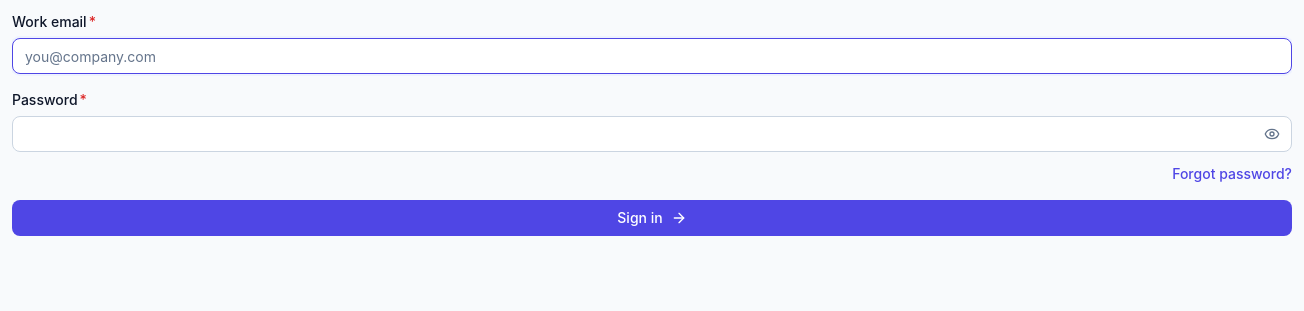
Test: SignInForm › shows a safe message for invalid credentials and clears the password
Type "ada@example.com" into the field labelled "Work email*". click: (652, 56)
box: 12,38 -> 1292,74
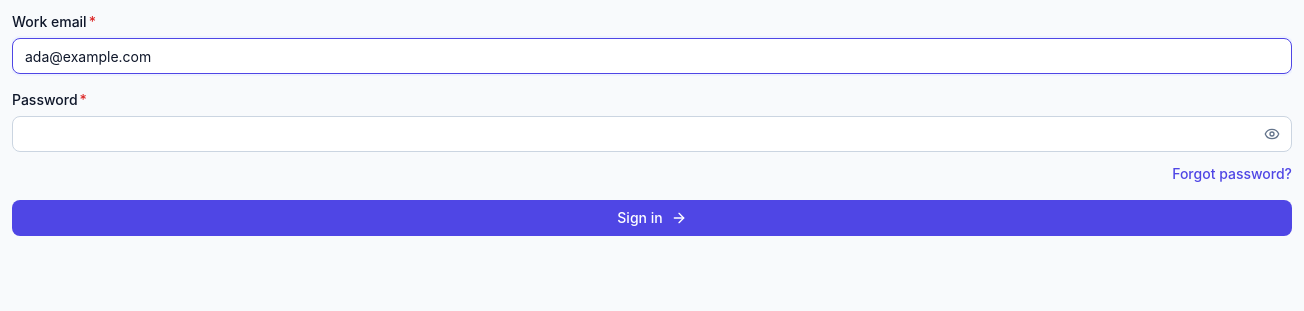
Type "secret-password" into the password field labelled "Password*". click: (652, 134)
box: 12,116 -> 1292,152
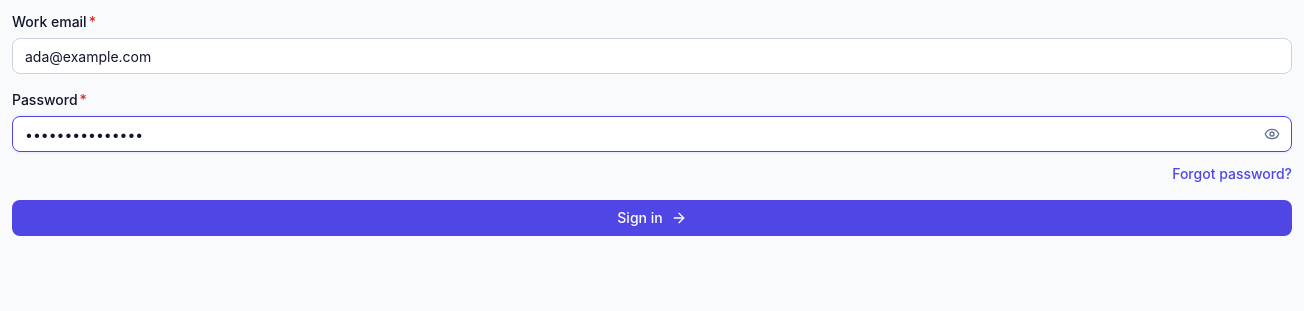
Click the button "Sign in". click: (652, 218)
box: 12,200 -> 1292,236
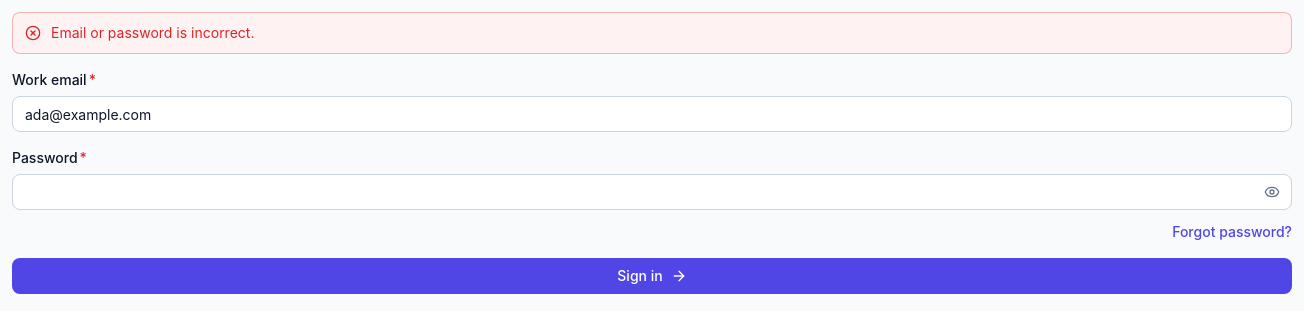
Check: the text "Email or password is incorrect." is shown, box 51,23 -> 254,43
Check: the password field labelled "Password*" is empty, box 12,174 -> 1292,210
